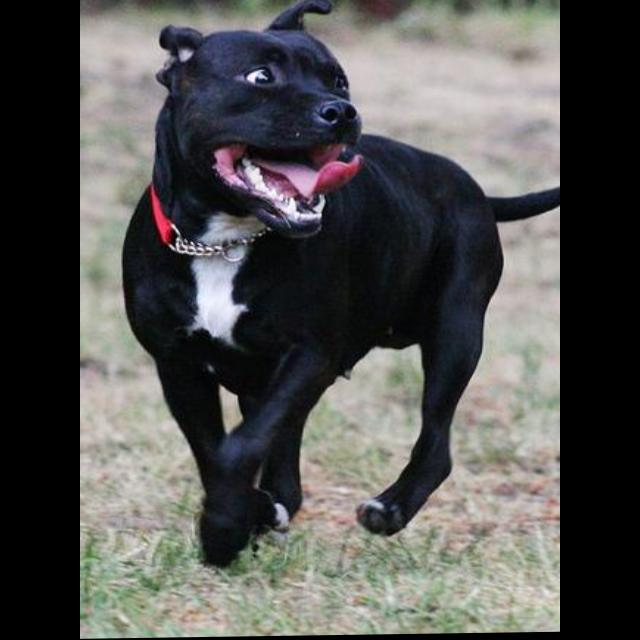staffford: (122, 1, 561, 572)
